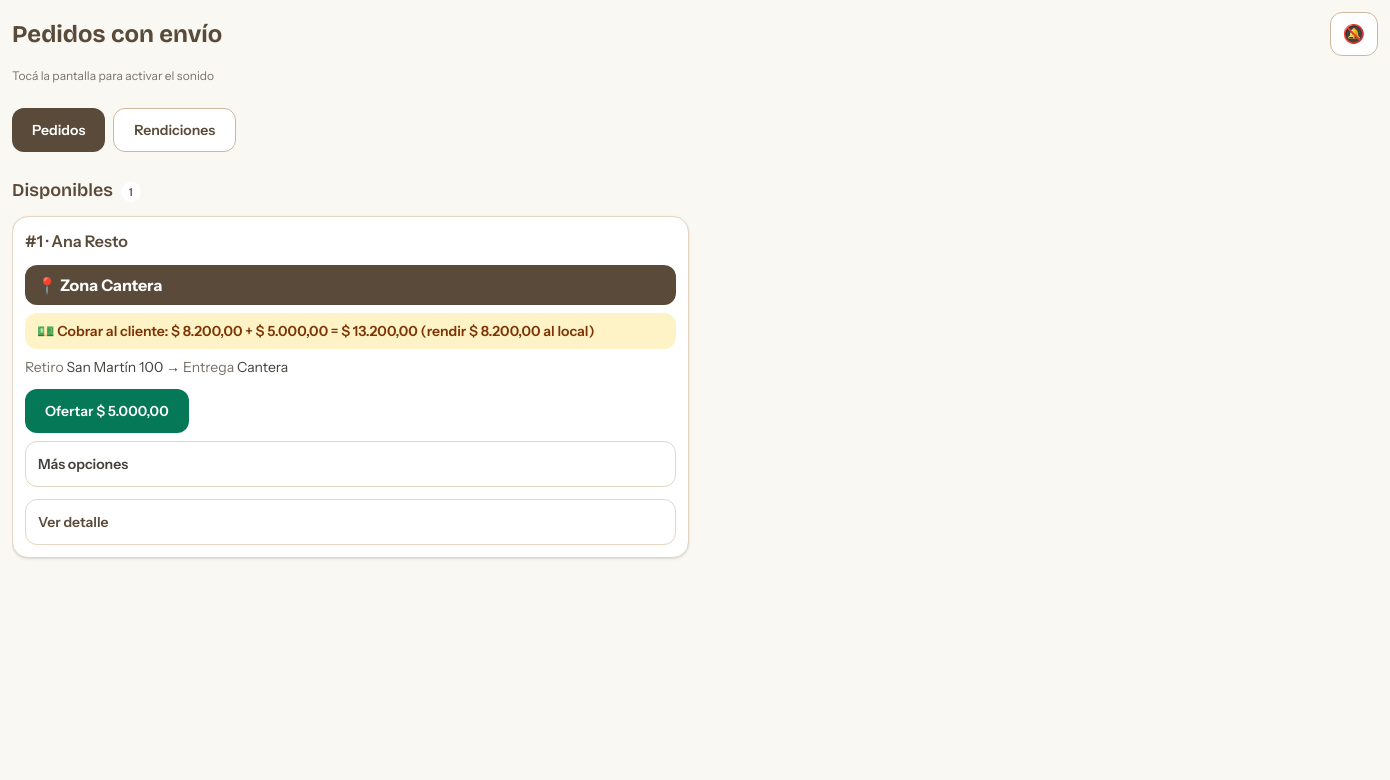
Test: tablero del repartidor — ENVIO-76 a 78 › si la acción falla, el error se ve en ese pedido
The image size is (1390, 780).
Click the button "Ofertar $ 5.000,00".
click(107, 411)  # box x1=25 y1=389 x2=189 y2=433
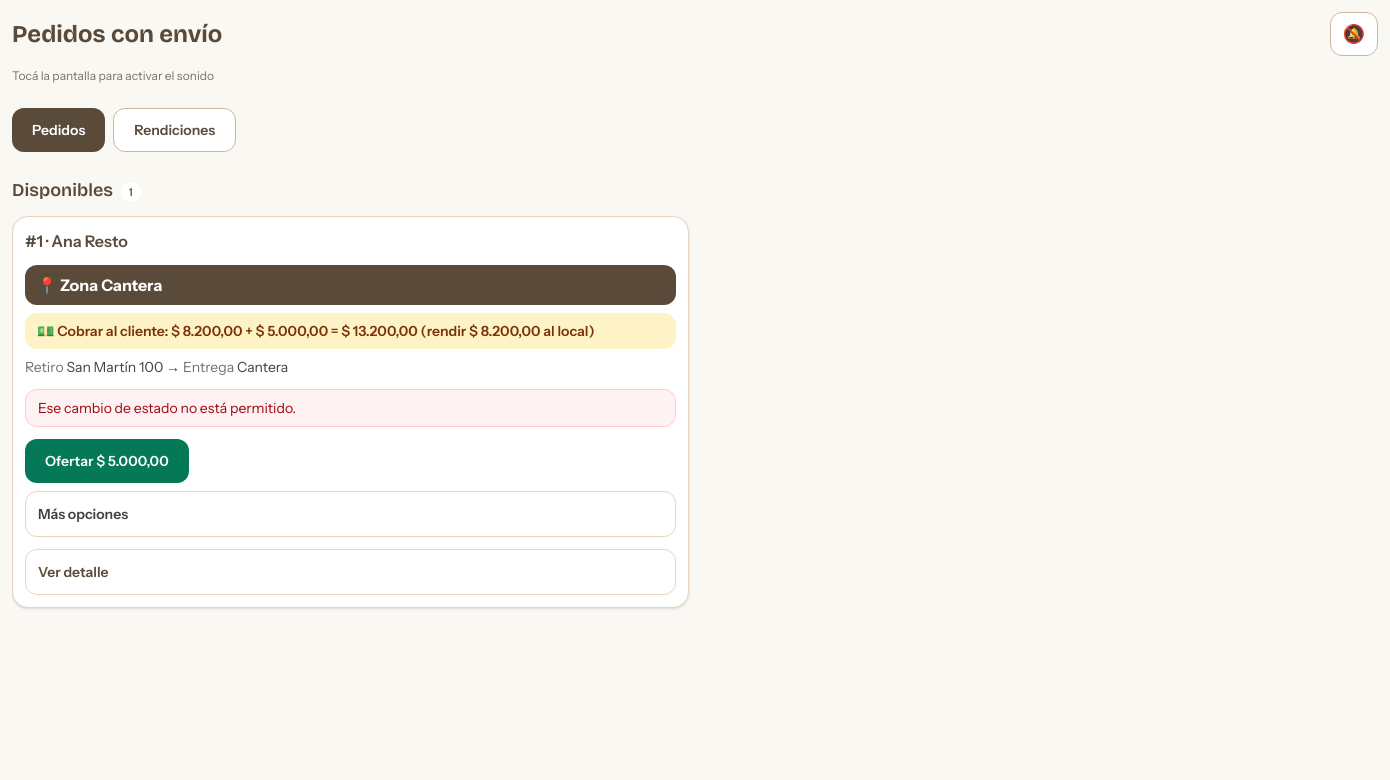
Check: the message shows "no está permitido", box x1=38 y1=399 x2=296 y2=417
